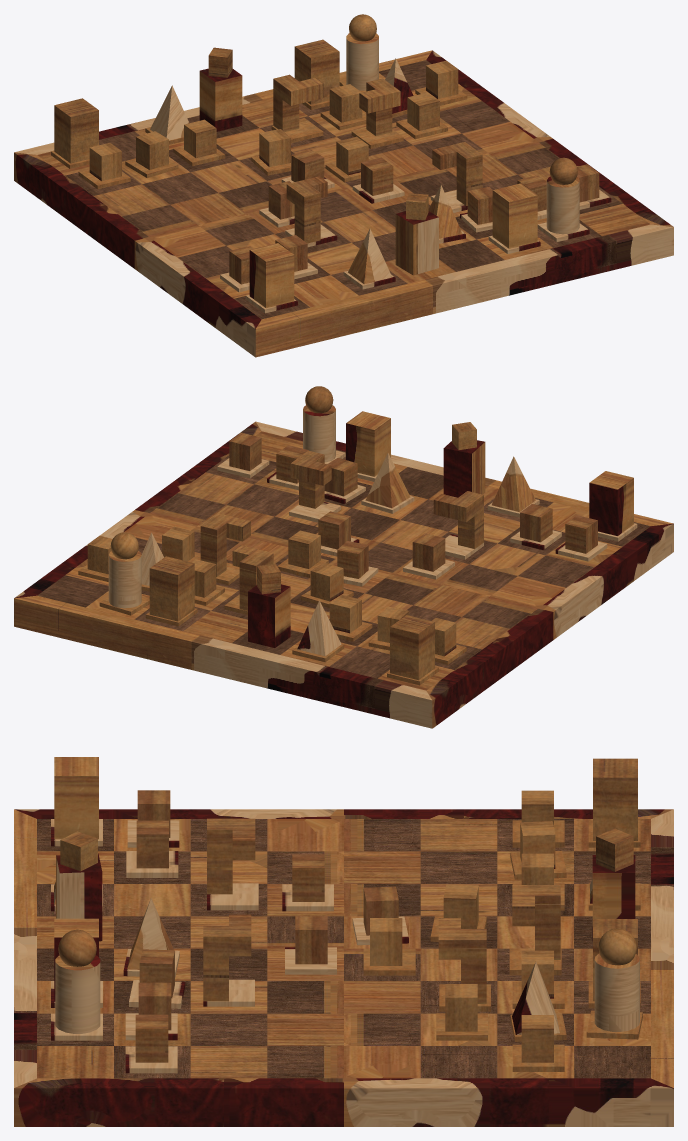
Rendered from chess.obj.
3 views of the same model, one above another, from view 1: azimuth 30°, elevation 25°; view 2: azimuth 150°, elevation 25°; view 3: azimuth 270°, elevation 25° (orthographic). The views are drawn at different scales.
Visible parts, largest first — view 1: White; view 2: White; view 3: White.
Boxes of the visible parts, bbox=[...] form: White: bbox=[14, 14, 673, 357]; White: bbox=[14, 386, 673, 728]; White: bbox=[14, 757, 673, 1126].
Bounding box in the file's own units: 9.25 × 2.11 × 9.24.
1 material, 1 textured.
